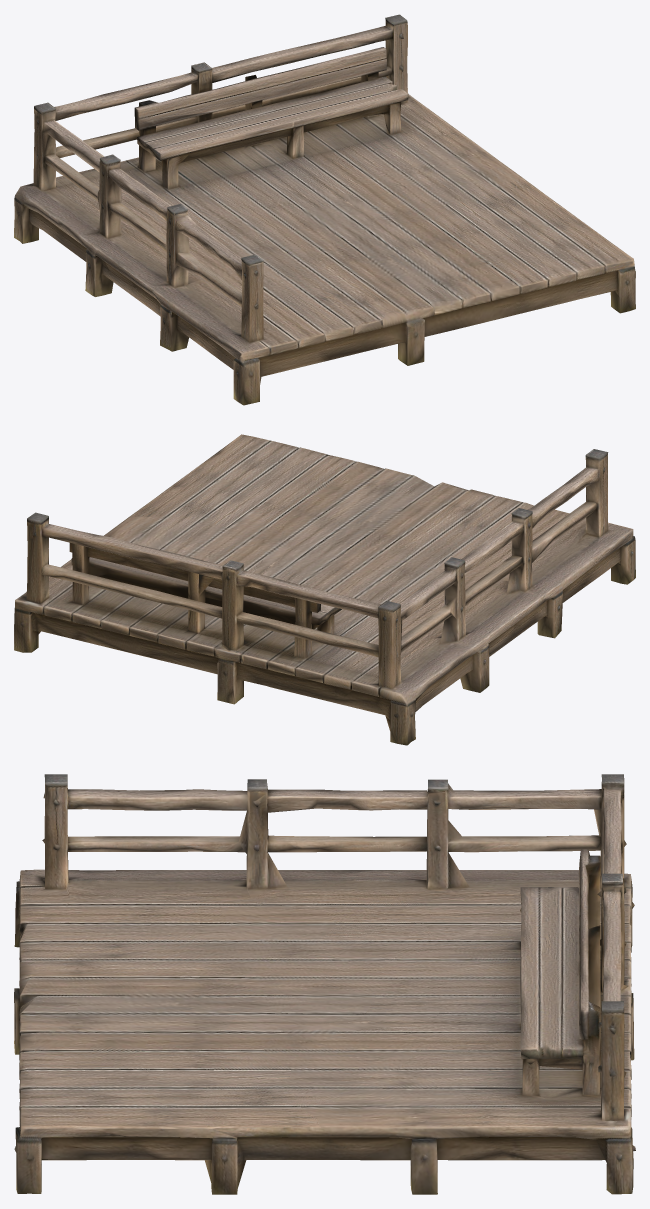
The model's file is overlook.glb.
The picture shows the model from 3 angles, top to bottom: view 1: azimuth 30°, elevation 25°; view 2: azimuth 150°, elevation 25°; view 3: azimuth 270°, elevation 25°; orthographic projection. The views are drawn at different scales.
Visible parts, largest first — view 1: tripo_node_8d60c999-be5a-481e-bcd6-98d8444b7a95; view 2: tripo_node_8d60c999-be5a-481e-bcd6-98d8444b7a95; view 3: tripo_node_8d60c999-be5a-481e-bcd6-98d8444b7a95.
Boxes of the visible parts, x1=… form: tripo_node_8d60c999-be5a-481e-bcd6-98d8444b7a95: x1=14, y1=14, x2=635, y2=405; tripo_node_8d60c999-be5a-481e-bcd6-98d8444b7a95: x1=14, y1=434, x2=635, y2=745; tripo_node_8d60c999-be5a-481e-bcd6-98d8444b7a95: x1=14, y1=774, x2=635, y2=1194.
Bounding box in the file's own units: 6 × 1.9 × 6.04.
Materials: 1 (1 with a texture image).
